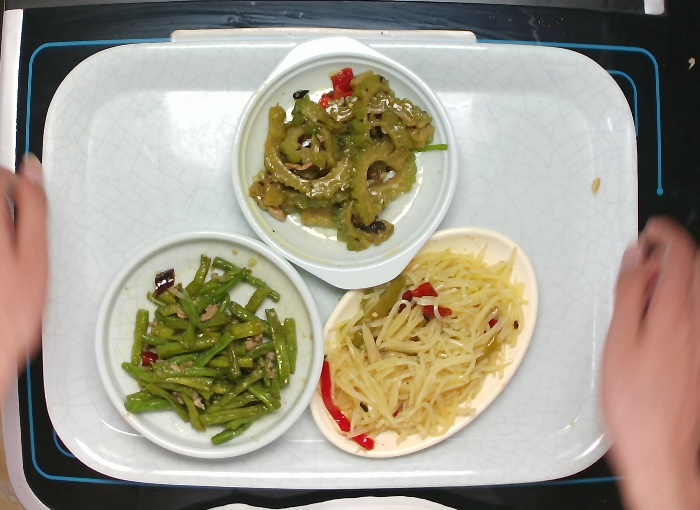JYsf-Shuang_Er_Pan: (225, 30, 459, 298)
JYsf-Tuo_Yuan_Wan: (310, 223, 546, 468)
JYsf-Xiao_Yuan_Pan: (90, 227, 330, 466)
